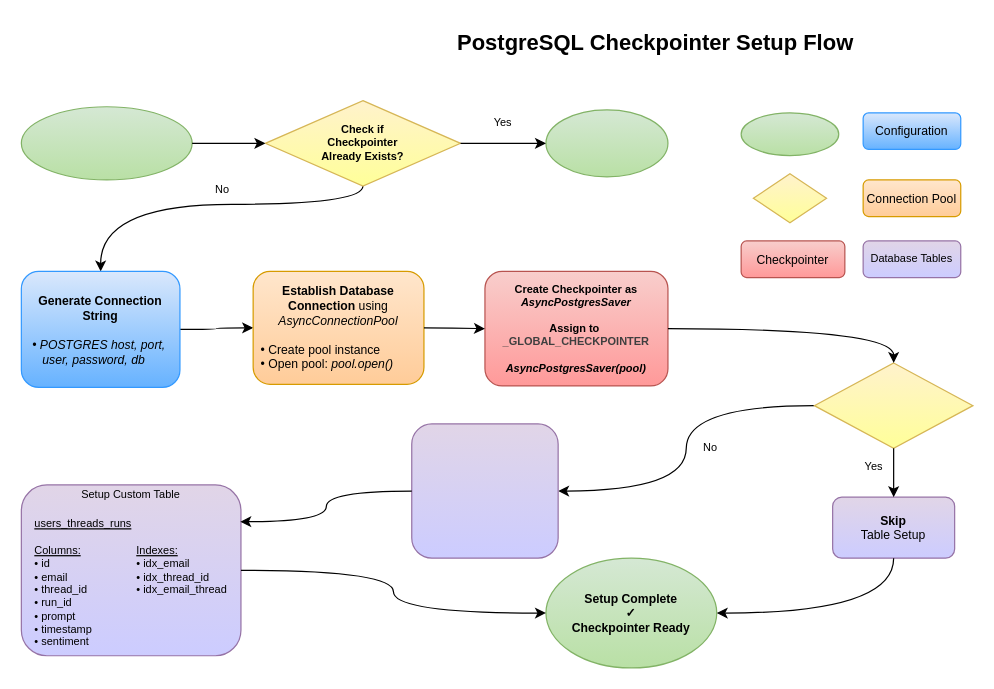
This 994x689 diagram has some shape labels left out. Here are the shapes that lost their labels. From the top down, the box of each, then its label:
(20, 106, 192, 180): Start initialize_checkpointer()
(545, 109, 668, 177): Already Initialized ✓ Done
(740, 112, 839, 156): Start/End
(752, 173, 827, 223): Decision
(813, 362, 973, 448): Does Checkpoint tables exist?
(411, 423, 558, 558): Setup LangGraph Tables AsyncPostgresSaver.setup() Tables: • checkpoints etc.
